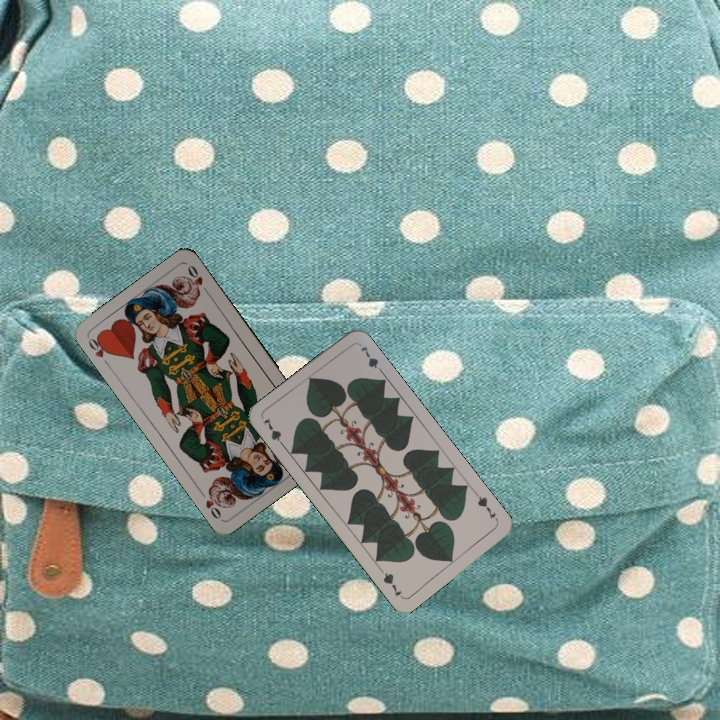G7: (259, 414, 288, 451), (472, 489, 501, 524)
HO: (84, 331, 114, 369)
